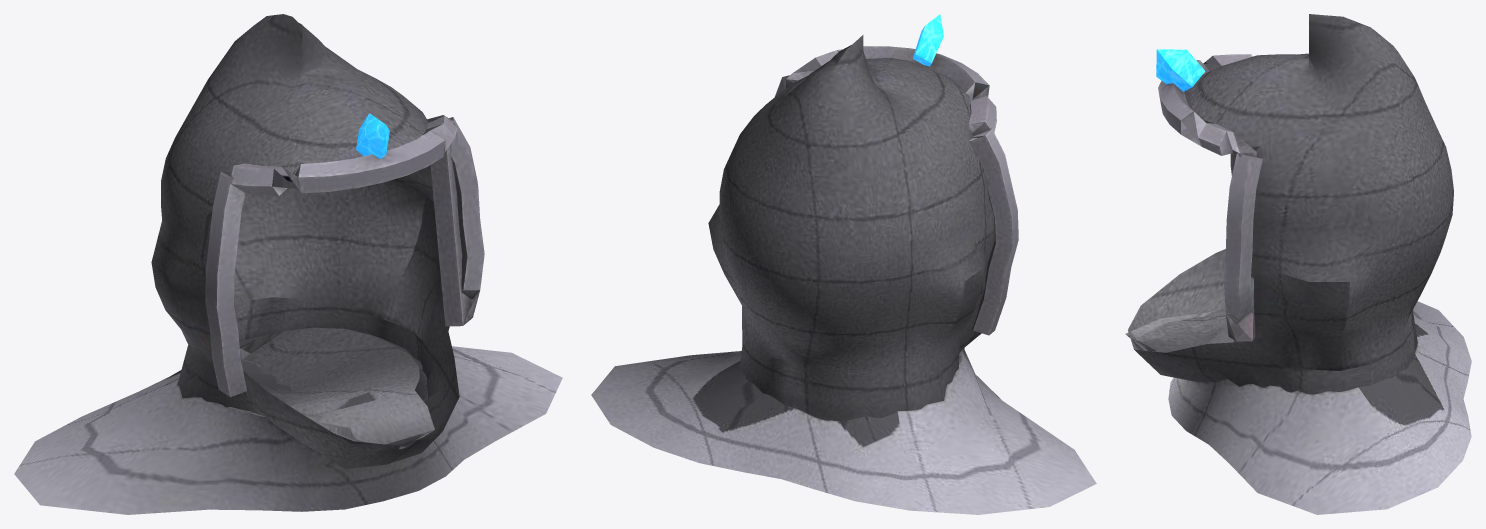
Rendered from Capuz_Arcano_nivel100.glb.
3 views of the same model, side by side, from view 1: azimuth 30°, elevation 25°; view 2: azimuth 150°, elevation 25°; view 3: azimuth 270°, elevation 25° (orthographic). The views are drawn at different scales.
Parts seen in each view (by area): view 1: capuz_arcano_nivel100; view 2: capuz_arcano_nivel100; view 3: capuz_arcano_nivel100.
Part boxes in pixels (bbox=[...]): capuz_arcano_nivel100: bbox=[14, 14, 562, 514]; capuz_arcano_nivel100: bbox=[591, 14, 1096, 514]; capuz_arcano_nivel100: bbox=[1125, 14, 1471, 514].
Bounding box in the file's own units: 0.4628 × 0.356 × 0.2919.
Materials: 1 (1 with a texture image).
